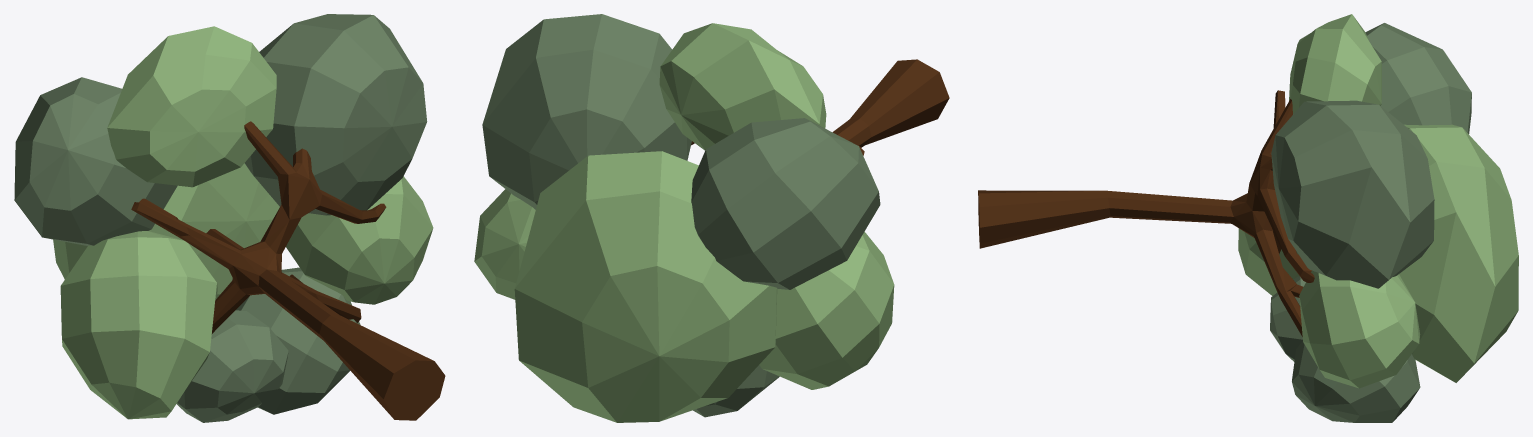
Rendered from Tree_001.fbx.
The picture shows the model from 3 angles, left to right: view 1: azimuth 30°, elevation 25°; view 2: azimuth 150°, elevation 25°; view 3: azimuth 270°, elevation 25°; orthographic projection. The views are drawn at different scales.
Parts seen in each view (by area): view 1: Tree_001; view 2: Tree_001; view 3: Tree_001.
Boxes of the visible parts, x1,y1,x2,y2 form: Tree_001: (14, 14, 445, 422); Tree_001: (474, 14, 949, 422); Tree_001: (978, 14, 1518, 422).
Size of the model in its own units: 660 by 644 by 869.
